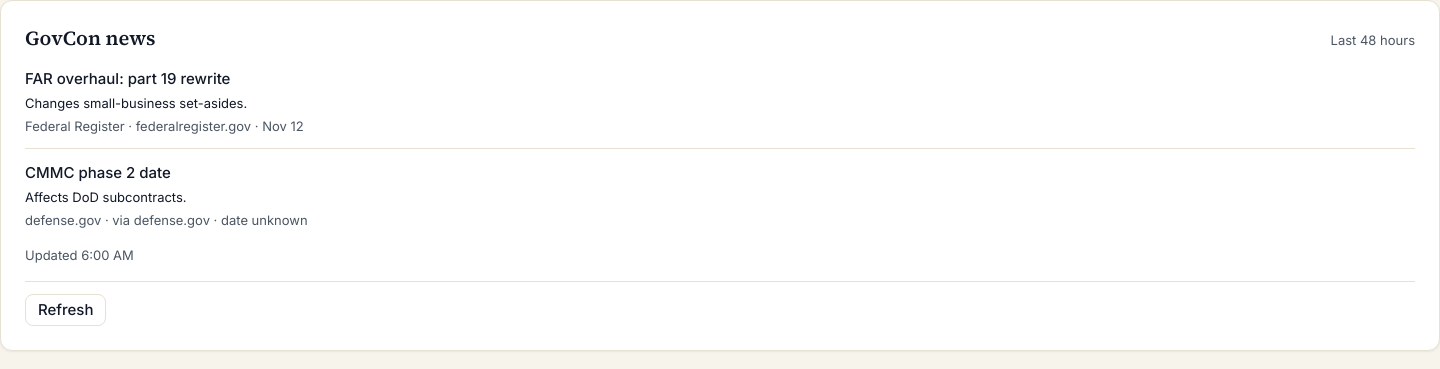
Test: Refresh (owner only) › a successful refresh says 'Updated just now'
Click the button with test id "news-refresh" at (66, 310), box [25,294,106,326]
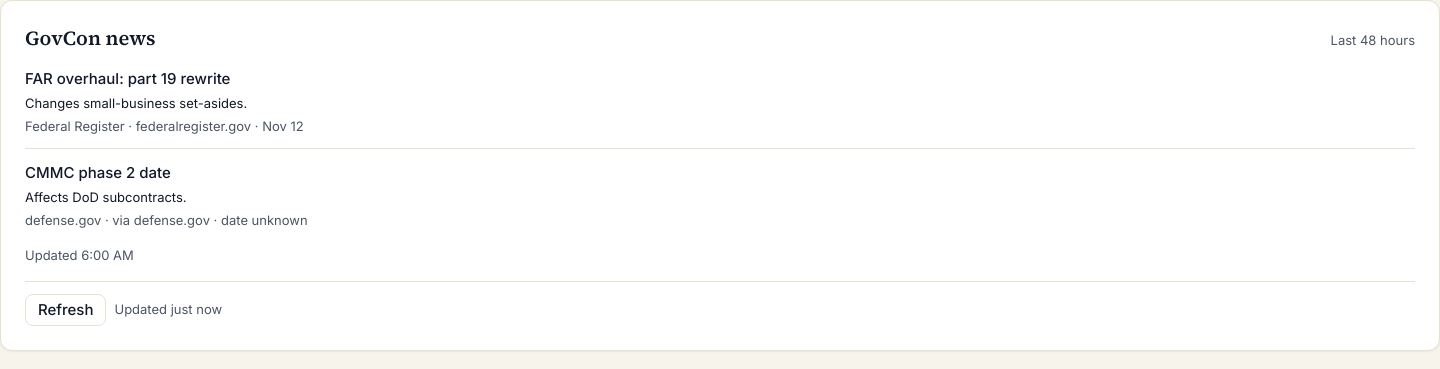
Result: the message with test id "news-refresh-note" reads "Updated just now" at [114,301,222,317]
